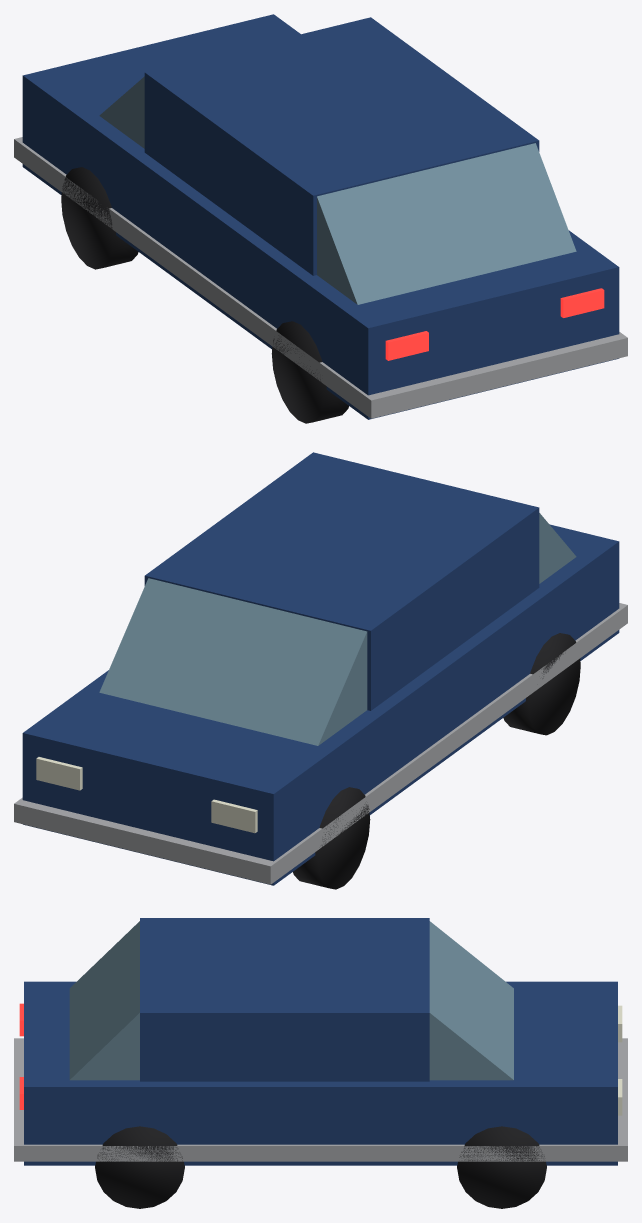
Rendered from Car2.fbx.
The picture shows the model from 3 angles, top to bottom: view 1: azimuth 30°, elevation 25°; view 2: azimuth 150°, elevation 25°; view 3: azimuth 270°, elevation 25°; orthographic projection. The views are drawn at different scales.
Visible parts, largest first — view 1: Body, Cabin, RearScreen, Bumpers, Wheel-10, Wheel-11, Windscreen, Taillamp1, Taillamp-1; view 2: Body, Cabin, Windscreen, Bumpers, Wheel-10, Wheel-11, RearScreen, Headlamp-1, Headlamp1; view 3: Body, Cabin, Bumpers, Windscreen, RearScreen, Wheel10, Wheel11.
Boxes of the visible parts, x1,y1,x2,y2 form: Body: (22,14,619,419); Cabin: (144,17,539,275); RearScreen: (317,143,576,304); Bumpers: (14,137,627,418); Wheel-10: (61,167,138,269); Wheel-11: (271,321,348,423); Windscreen: (99,76,144,148); Taillamp1: (560,288,604,317); Taillamp-1: (385,331,428,360); Body: (22,524,619,885); Cabin: (144,452,539,710); Windscreen: (99,578,367,745); Bumpers: (14,603,627,884); Wheel-10: (293,787,370,889); Wheel-11: (503,633,580,735); RearScreen: (539,513,576,583); Headlamp-1: (211,799,257,833); Headlamp1: (36,757,82,790); Body: (24,981,617,1165); Cabin: (140,918,429,1081); Bumpers: (14,1038,627,1161); Windscreen: (429,921,513,1080); RearScreen: (69,921,139,1080); Wheel10: (457,1126,546,1208); Wheel11: (95,1126,184,1208).
Bounding box in the file's own units: 176 × 424 × 144.
